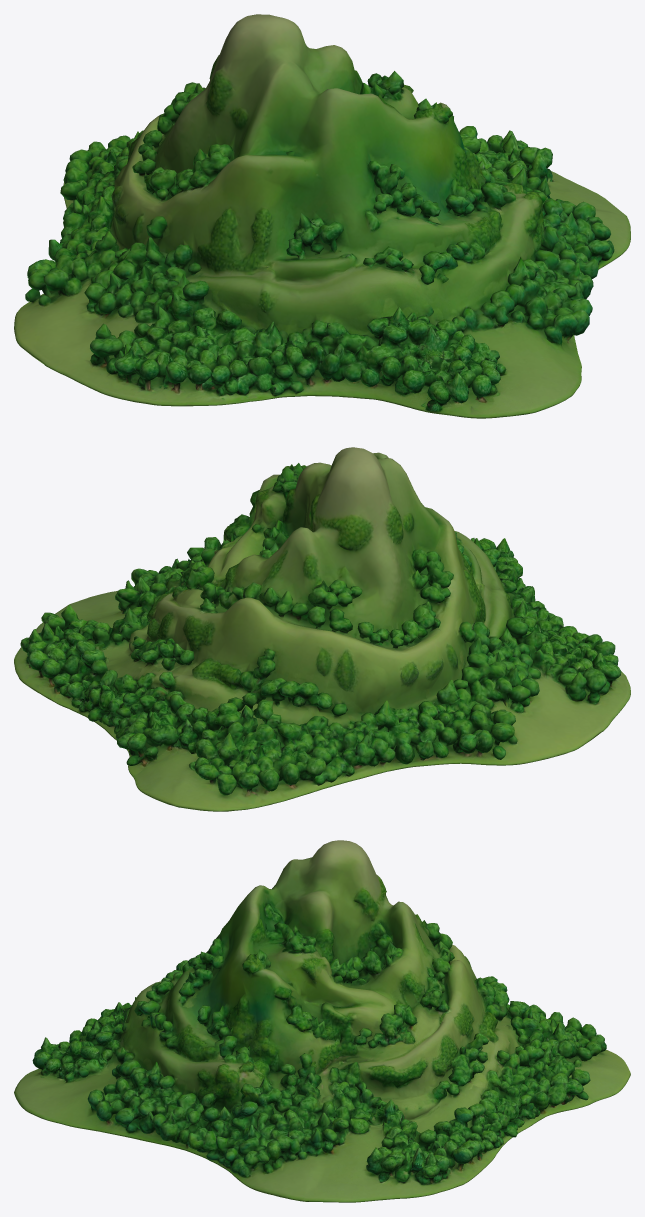
Rendered from mountain2.glb.
3 views of the same model, one above another, from view 1: azimuth 30°, elevation 25°; view 2: azimuth 150°, elevation 25°; view 3: azimuth 270°, elevation 25° (orthographic). The views are drawn at different scales.
Parts seen in each view (by area): view 1: tripo_node_56a7af59-c3a3-4b9c-95a0-c3b5dc16e614; view 2: tripo_node_56a7af59-c3a3-4b9c-95a0-c3b5dc16e614; view 3: tripo_node_56a7af59-c3a3-4b9c-95a0-c3b5dc16e614.
Part boxes in pixels (left/top/right/bottom): tripo_node_56a7af59-c3a3-4b9c-95a0-c3b5dc16e614: left=14, top=14, right=630, bottom=418; tripo_node_56a7af59-c3a3-4b9c-95a0-c3b5dc16e614: left=14, top=447, right=630, bottom=811; tripo_node_56a7af59-c3a3-4b9c-95a0-c3b5dc16e614: left=14, top=840, right=630, bottom=1202.
Size of the model in its own units: 0.9086 by 0.3975 by 1.
1 material, 1 textured.
